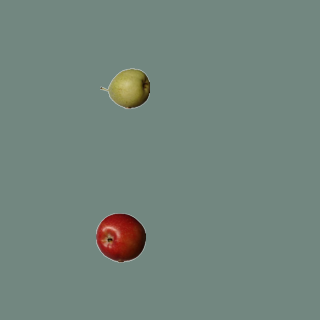Apple Braeburn: (95, 212, 145, 262)
Pear: (99, 63, 149, 113)
